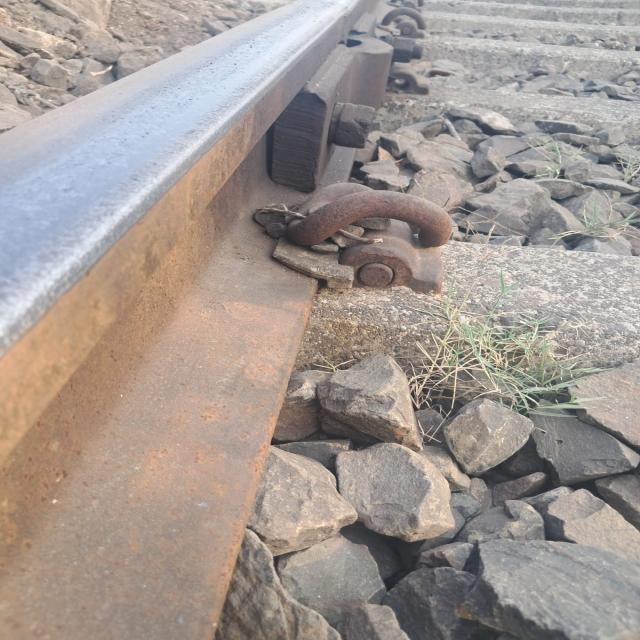overrailed: (241, 159, 510, 315)
